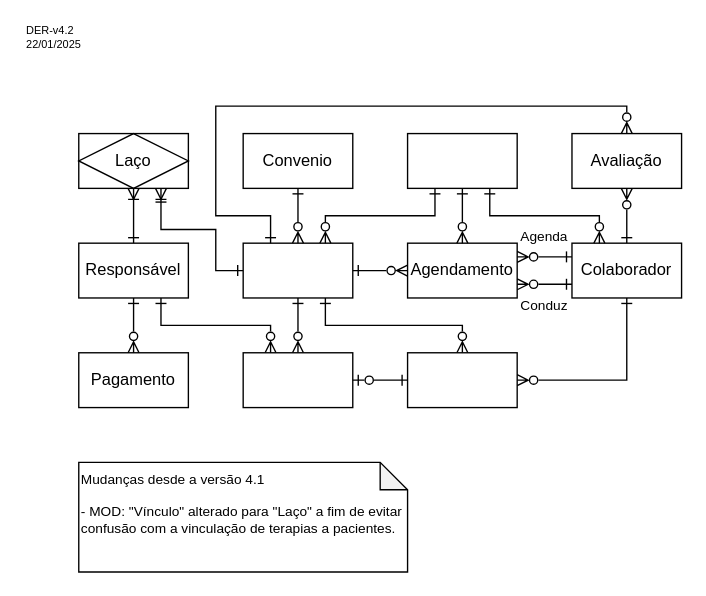
Image size: 706x596. Some labels were removed from this diagram. The centre of each missing label's shape, as x and y in pixels:
Contrato: [297,379]
Documento: [461,379]
Empresa: [461,160]
Paciente: [297,270]
